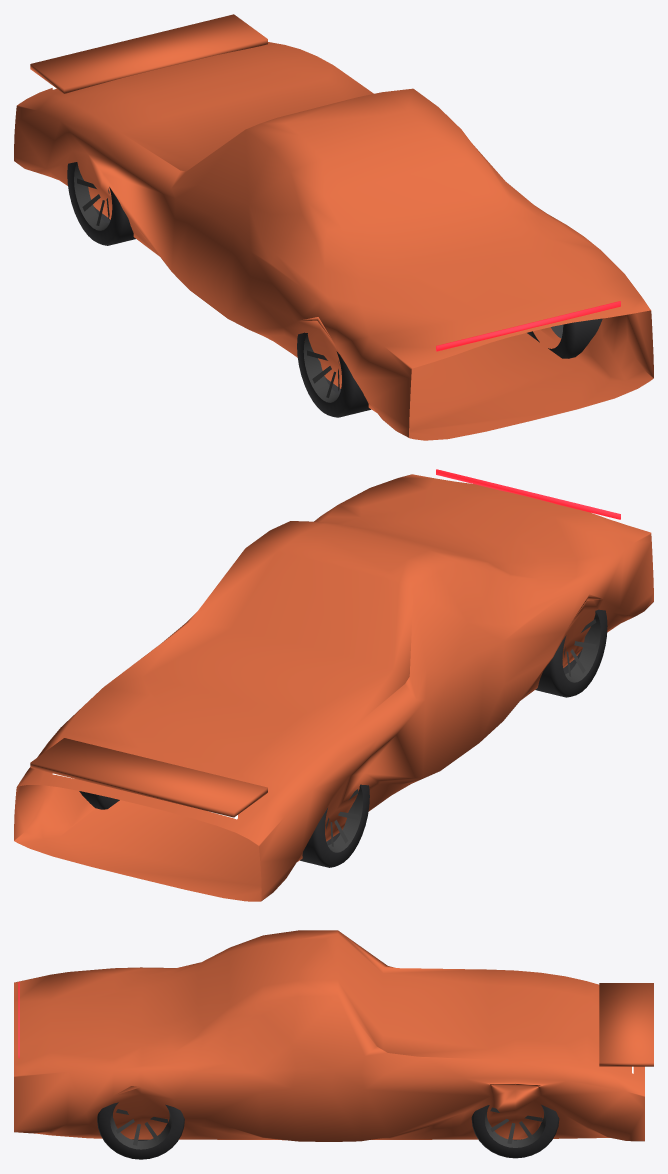
The model's file is Car_Dodge_Charger_Daytona_SRT_EV_future.glb.
3 renders of one model, top to bottom at view 1: azimuth 30°, elevation 25°; view 2: azimuth 150°, elevation 25°; view 3: azimuth 270°, elevation 25°, orthographic. The views are drawn at different scales.
Parts seen in each view (by area): view 1: BODY_ChargerDaytonaSRT_EV_MainHull, AERO_ChargerDaytona_RWing, WHEEL_RR_Tire, WHEEL_FR_Tire, WHEEL_RL_Tire, LIGHT_Taillights_ChargerDaytona, WHEEL_RR_Rim, WHEEL_FR_Rim; view 2: BODY_ChargerDaytonaSRT_EV_MainHull, AERO_ChargerDaytona_RWing, WHEEL_RR_Tire, WHEEL_FR_Tire, WHEEL_RR_Rim, LIGHT_Taillights_ChargerDaytona, WHEEL_FR_Rim; view 3: BODY_ChargerDaytonaSRT_EV_MainHull, AERO_ChargerDaytona_RWing, WHEEL_RL_Tire, WHEEL_FL_Tire, WHEEL_RL_Rim, WHEEL_FL_Rim.
Part boxes in pixels (box(x1,y1,x2,y2)): BODY_ChargerDaytonaSRT_EV_MainHull: box(14, 42, 653, 440); AERO_ChargerDaytona_RWing: box(30, 14, 267, 93); WHEEL_RR_Tire: box(297, 332, 370, 417); WHEEL_FR_Tire: box(67, 162, 135, 245); WHEEL_RL_Tire: box(527, 318, 602, 358); LIGHT_Taillights_ChargerDaytona: box(436, 301, 620, 351); WHEEL_RR_Rim: box(303, 333, 339, 402); WHEEL_FR_Rim: box(74, 162, 109, 230); BODY_ChargerDaytonaSRT_EV_MainHull: box(14, 474, 653, 901); AERO_ChargerDaytona_RWing: box(30, 738, 267, 817); WHEEL_RR_Tire: box(535, 609, 607, 697); WHEEL_FR_Tire: box(300, 784, 369, 867); WHEEL_RR_Rim: box(564, 611, 600, 682); LIGHT_Taillights_ChargerDaytona: box(436, 469, 620, 519); WHEEL_FR_Rim: box(326, 785, 362, 852); BODY_ChargerDaytonaSRT_EV_MainHull: box(14, 930, 644, 1141); AERO_ChargerDaytona_RWing: box(599, 983, 653, 1066); WHEEL_RL_Tire: box(97, 1102, 184, 1159); WHEEL_FL_Tire: box(471, 1104, 559, 1158); WHEEL_RL_Rim: box(110, 1108, 171, 1149); WHEEL_FL_Rim: box(485, 1107, 546, 1147).
Size of the model in its own units: 2.06 by 1.37 by 5.25.
